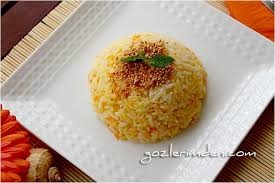pirinc_pilavi: (88, 33, 206, 142)
